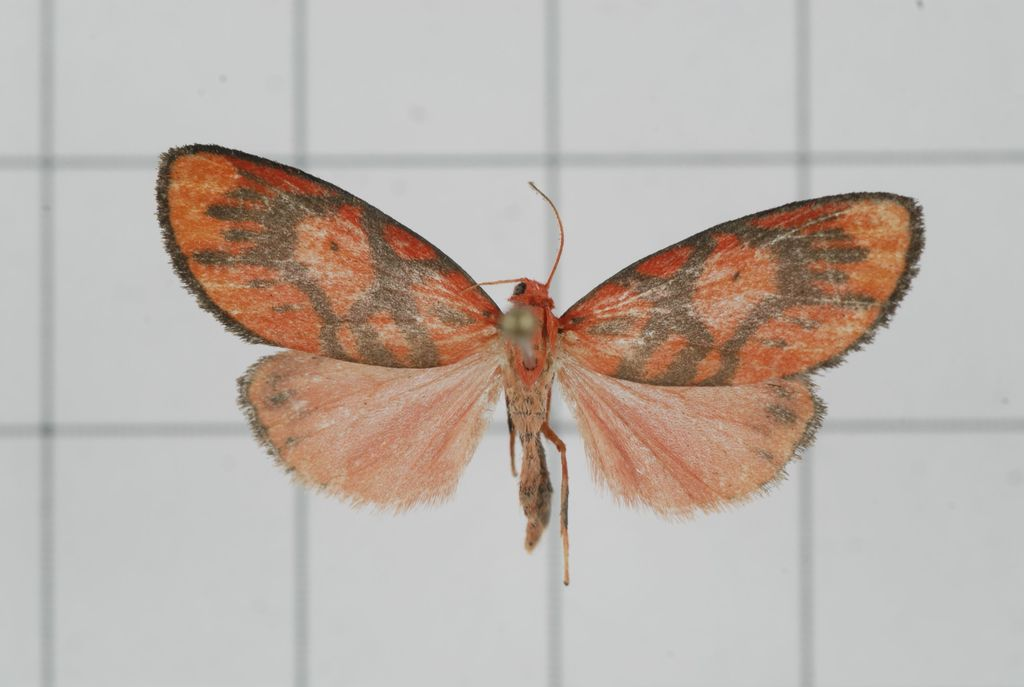Butterfly: (166, 144, 917, 585)
